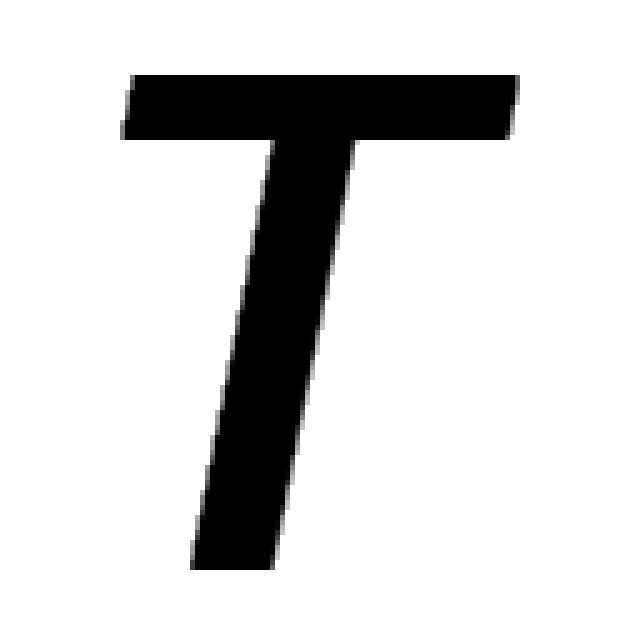T: (115, 65, 525, 575)
